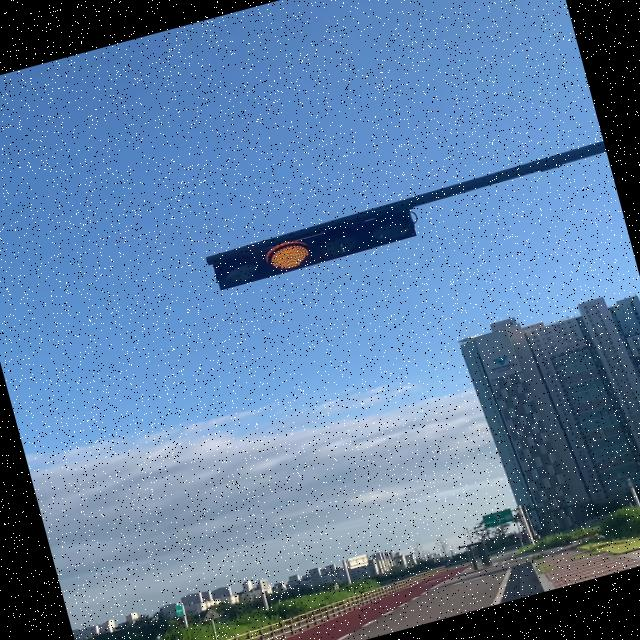yellow_light: (210, 204, 420, 291)
